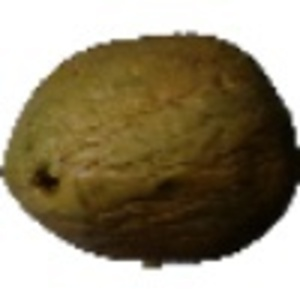mamão: (1, 24, 297, 275)
